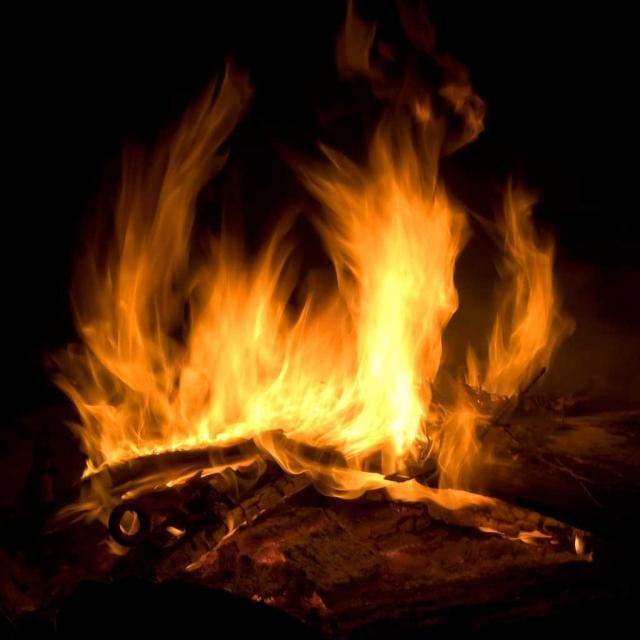Fire: (342, 192, 434, 471), (198, 287, 282, 441)
